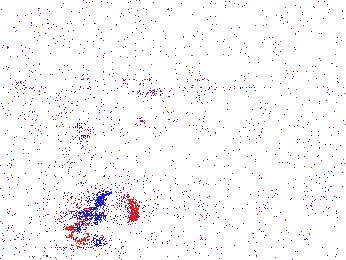flame jellyfish: (23, 94, 92, 147), (271, 207, 336, 257), (66, 191, 138, 232)
